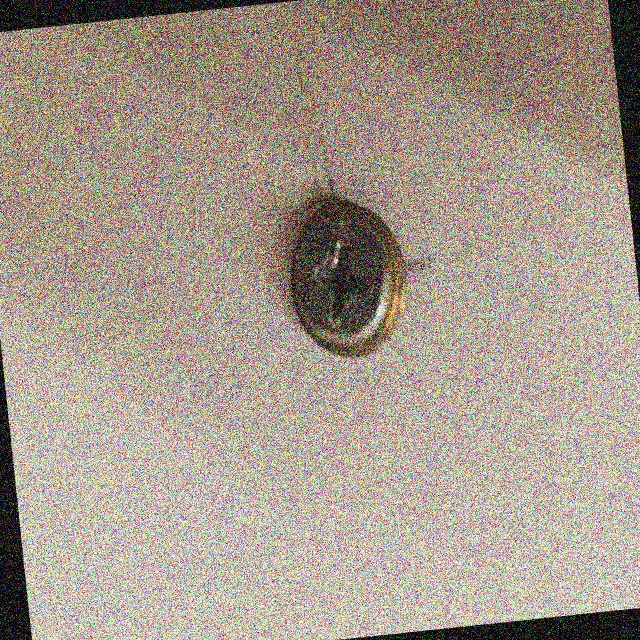phillips: (285, 210, 399, 352)
